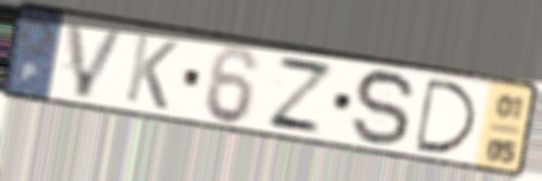6: (200, 42, 264, 127)
D: (413, 75, 480, 157)
K: (121, 31, 182, 113)
S: (349, 67, 419, 149)
V: (63, 19, 130, 102)
Z: (262, 52, 338, 138)
